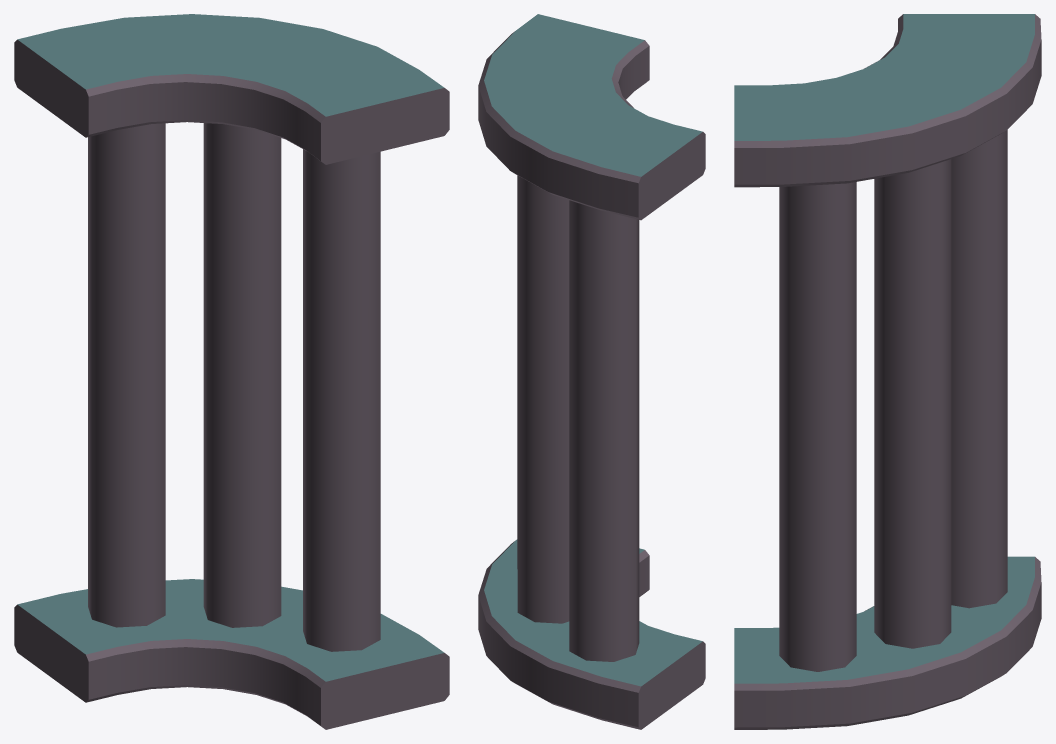
Rendered from GB_124_125_127_railing_corner.glb.
The picture shows the model from 3 angles, left to right: view 1: azimuth 30°, elevation 25°; view 2: azimuth 150°, elevation 25°; view 3: azimuth 270°, elevation 25°; orthographic projection. The views are drawn at different scales.
Visible parts, largest first — view 1: Railing_corner; view 2: Railing_corner; view 3: Railing_corner.
Boxes of the visible parts, <box> form: Railing_corner: <box>14,14,449,729</box>; Railing_corner: <box>478,14,705,729</box>; Railing_corner: <box>734,14,1041,729</box>.
Bounding box in the file's own units: 0.4903 × 1.04 × 0.4919.
